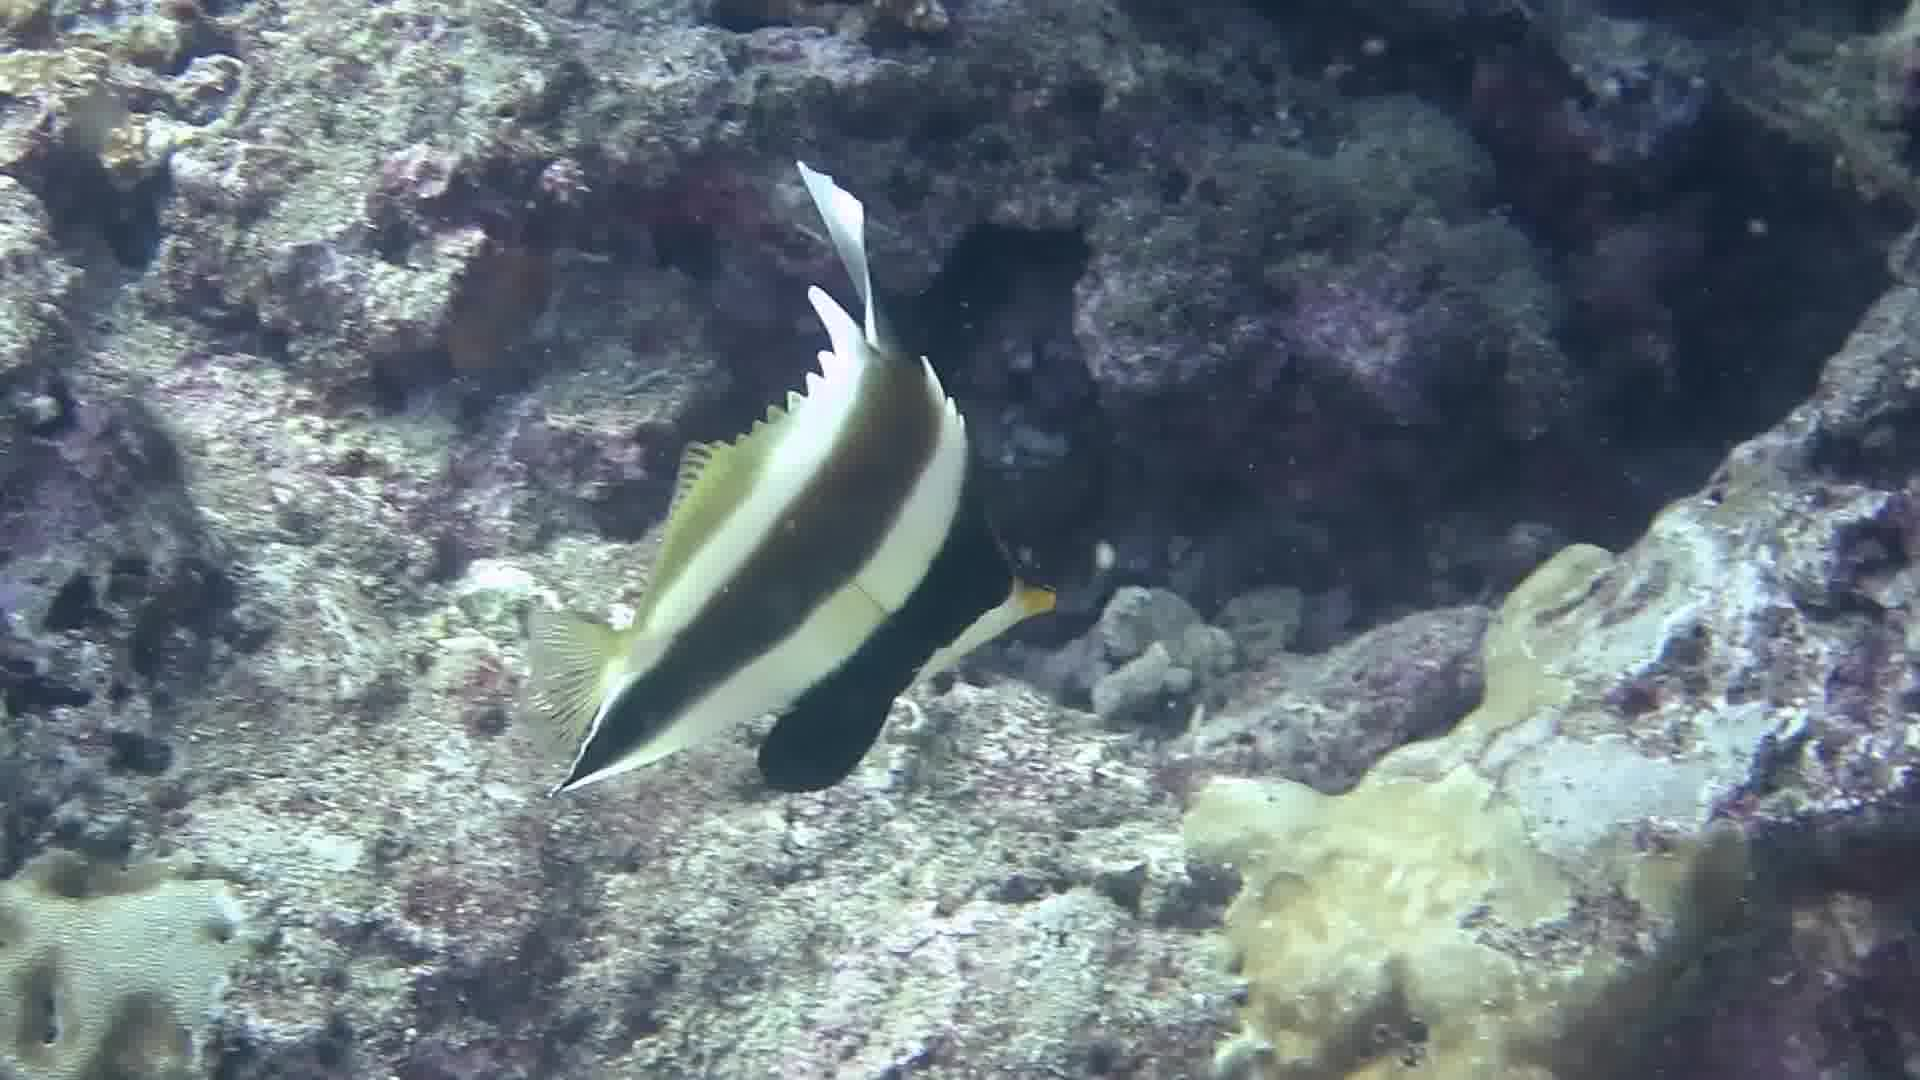Heniochus chrysostomus: (439, 141, 1240, 885)
